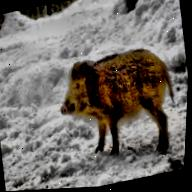boar: (39, 34, 190, 172)
